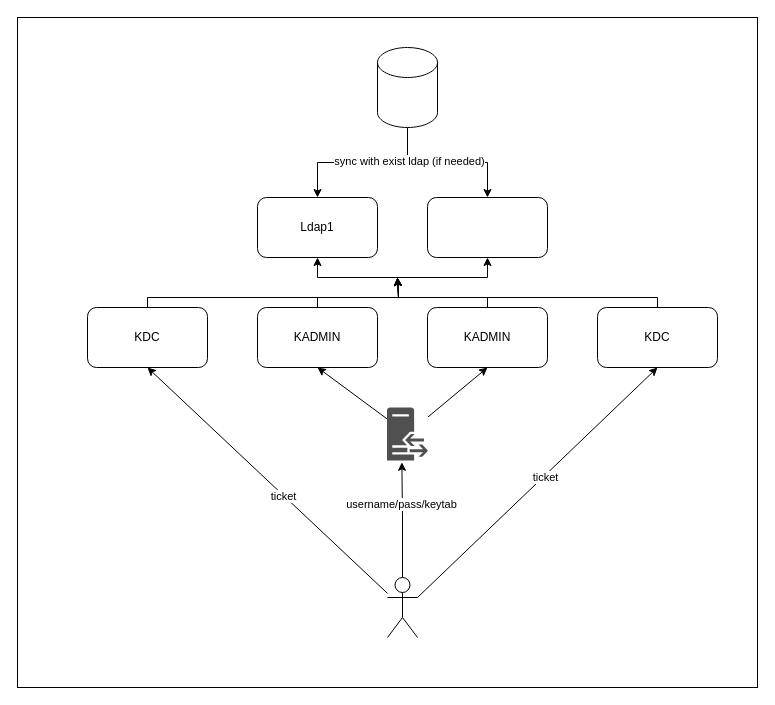
This 775x705 diagram has some shape labels left out. Each missing label, with the centre of its shape:
client: [402,607]
Ldap2: [487,227]
nginx proxy: [407,433]
